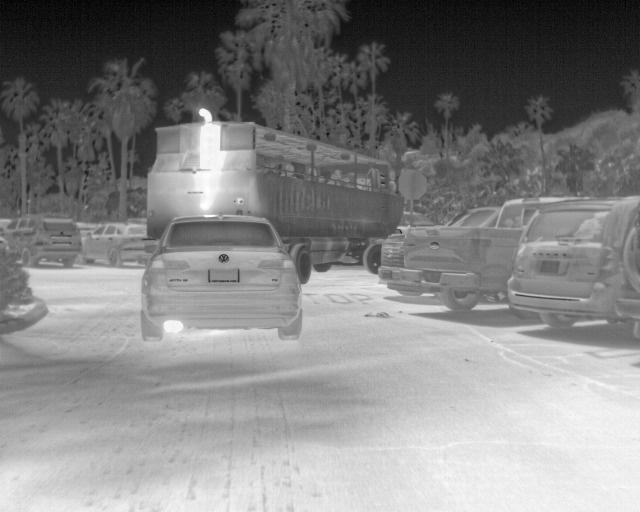bicycle: (401, 194, 589, 310), (139, 210, 301, 342), (505, 194, 637, 330), (594, 195, 636, 338), (3, 213, 83, 271), (80, 221, 159, 270), (381, 229, 403, 294), (450, 204, 502, 228)
